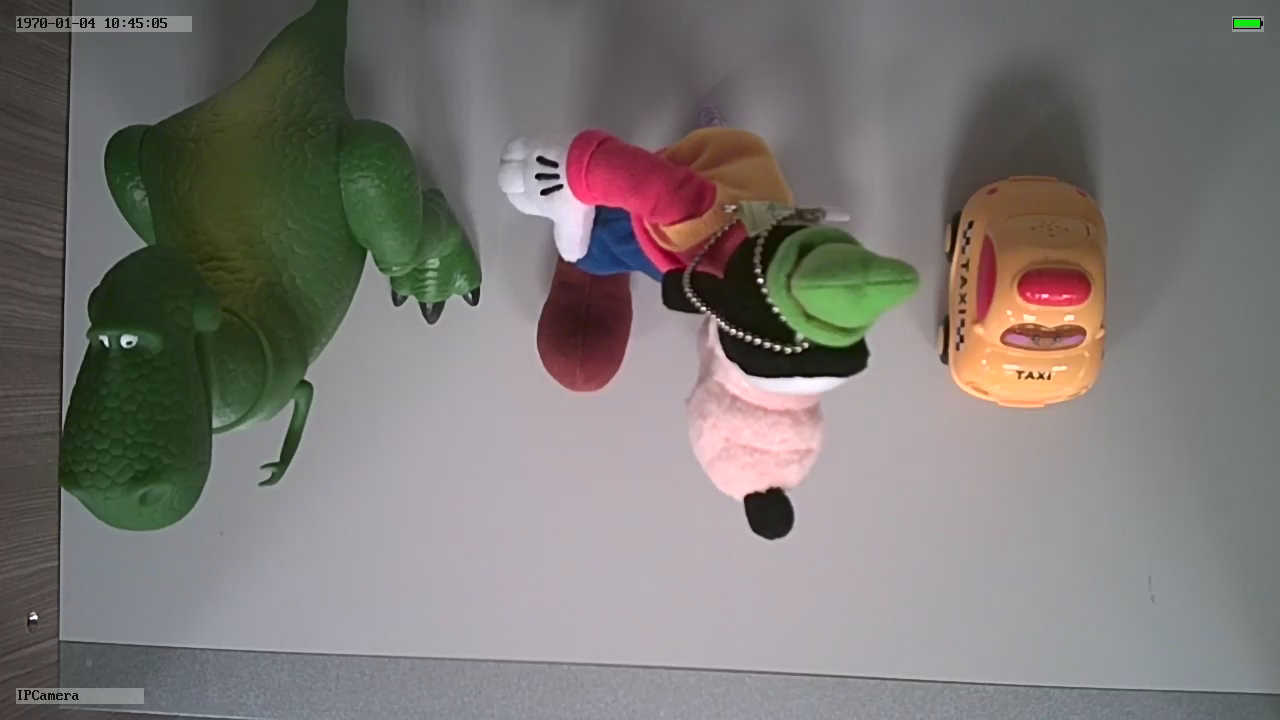goofy: (496, 122, 920, 545)
